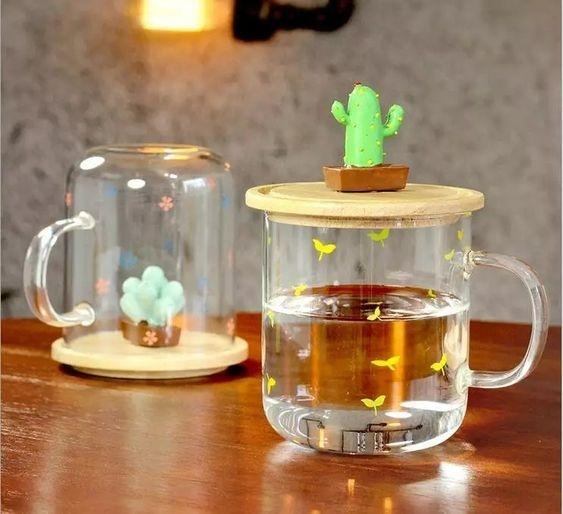glass-mug: (250, 173, 553, 462), (18, 139, 241, 362)
